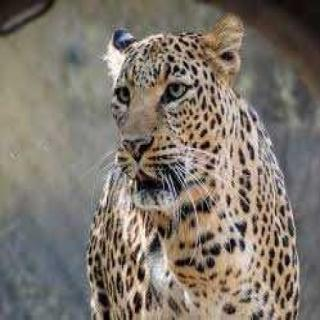Leopard: (77, 6, 316, 319)
